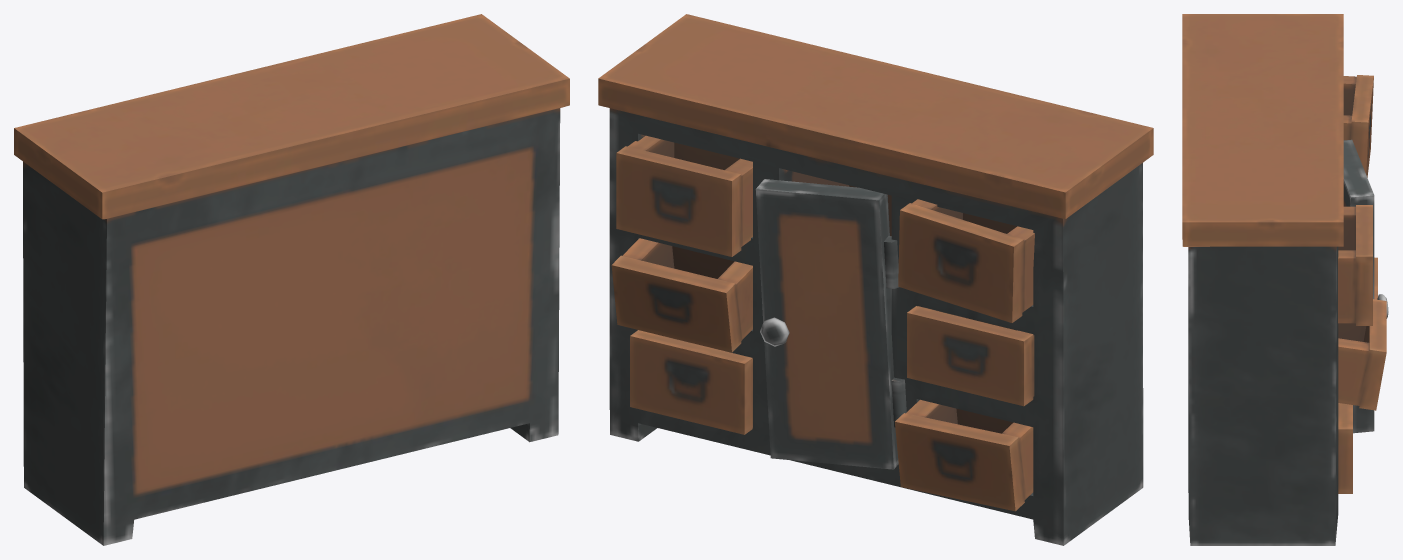
Rendered from Pfb_Indoors_Wardrobe.fbx.
3 views of the same model, side by side, from view 1: azimuth 30°, elevation 25°; view 2: azimuth 150°, elevation 25°; view 3: azimuth 270°, elevation 25° (orthographic). The views are drawn at different scales.
Visible parts, largest first — view 1: Mat_Indoors_Wardrobe_01; view 2: Mat_Indoors_Wardrobe_01; view 3: Mat_Indoors_Wardrobe_01.
Boxes of the visible parts, x1,y1,x2,y2 form: Mat_Indoors_Wardrobe_01: (14, 14, 569, 545); Mat_Indoors_Wardrobe_01: (598, 14, 1153, 545); Mat_Indoors_Wardrobe_01: (1182, 14, 1388, 545).
Bounding box in the file's own units: 2.04 × 1.5 × 0.8546.
1 material, 1 textured.
